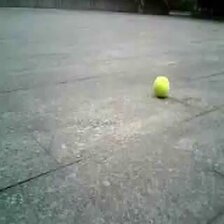tennis: (153, 77, 169, 95)
